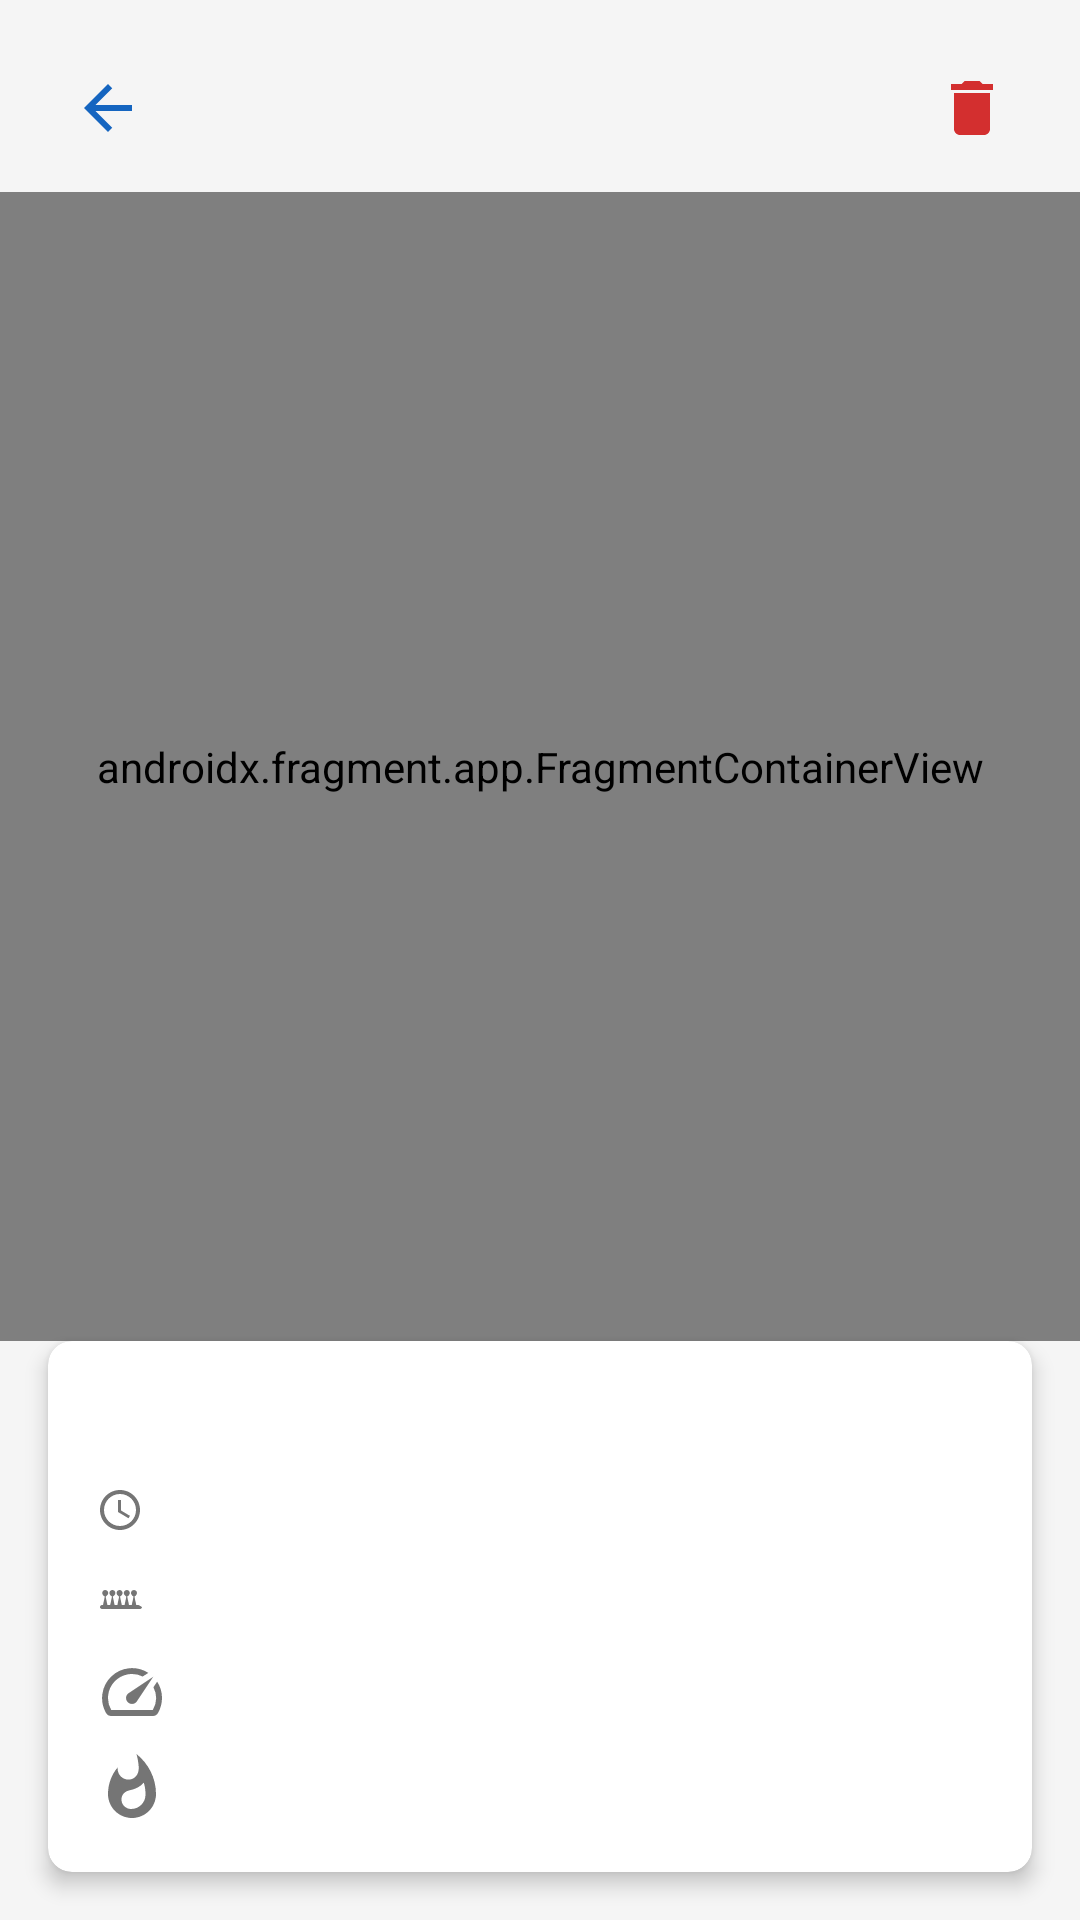

Point at icon controls on the screen. Image size 1080px x 1920px, points as point (x, y).
Back: point (108, 108)
Delete Run: point (972, 108)
